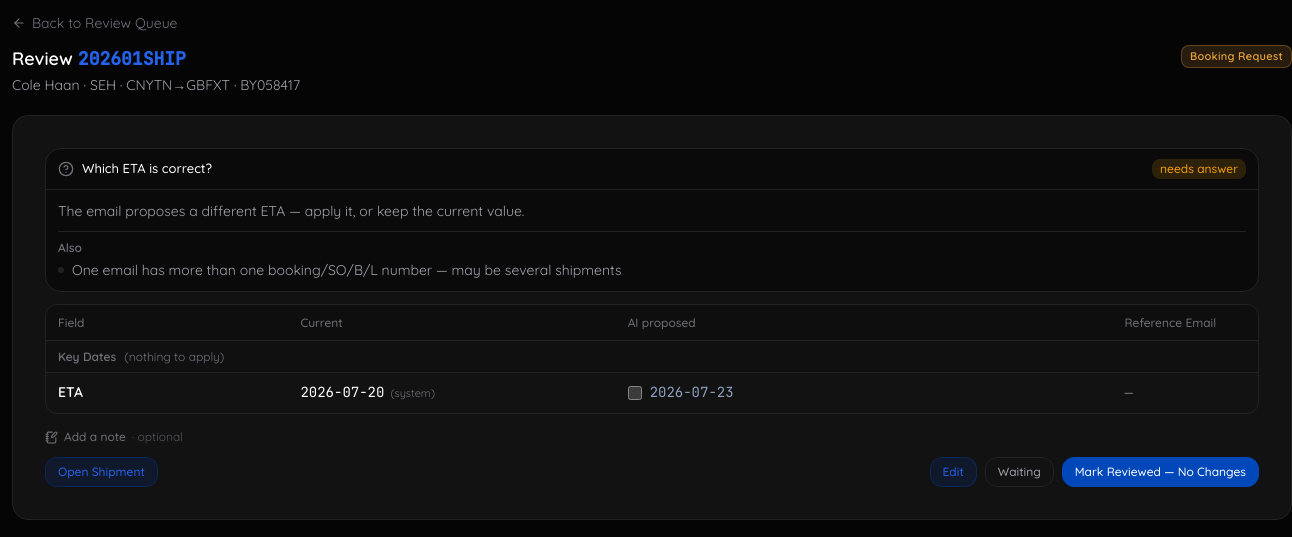
Test case: ShipmentReviewFocusPage › renders the focused review card with the conflict table and an approve action
expect the heading reads "Review 202601SHIP": met, box [12,47,186,70]
expect the text "Cole Haan · SEH · CNYTN→GBFXT · BY058417" is shown: met, box [12,75,300,95]
Click the checkbox with test id "conflict-take": [635, 392] box [628,386,642,400]
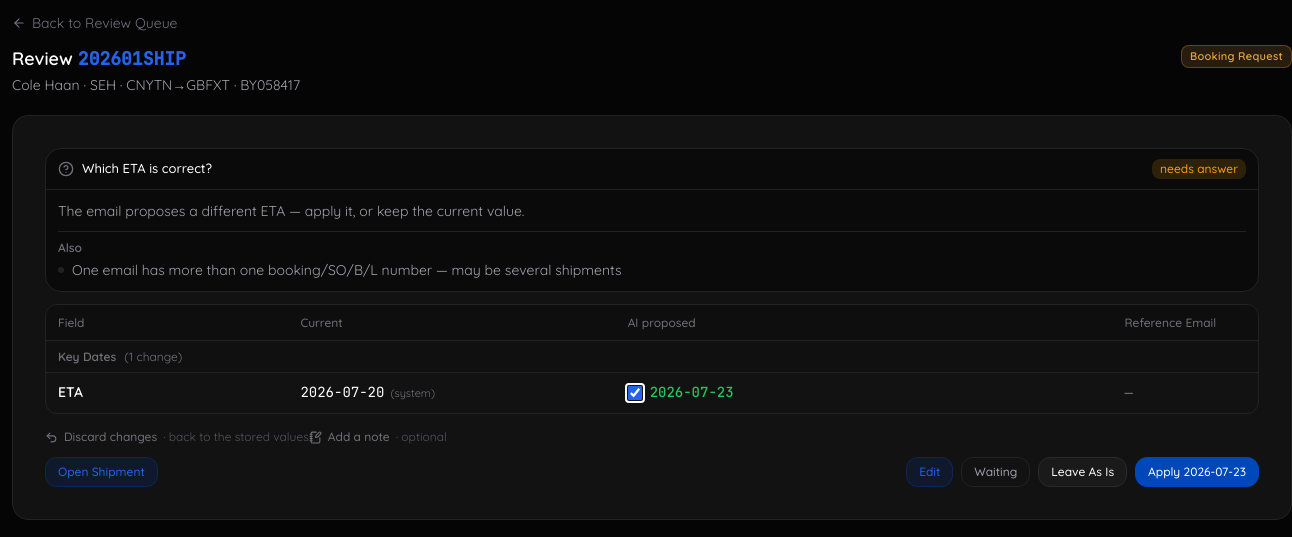
expect the button "Apply 2026-07-23" is shown: met, box [1135,457,1259,487]
